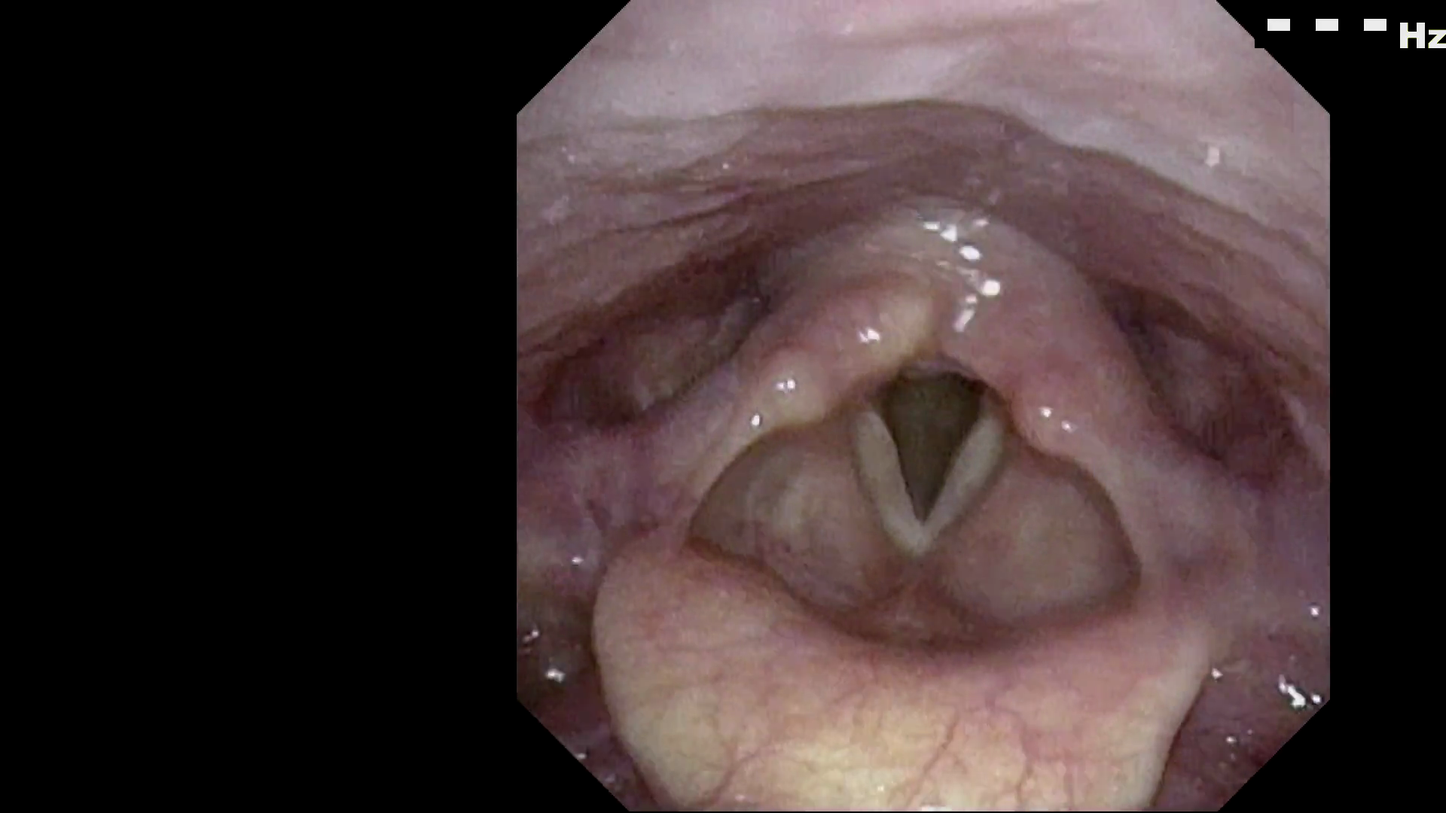epiglottis: (593, 531, 1215, 761)
trachea: (846, 334, 1024, 554)
